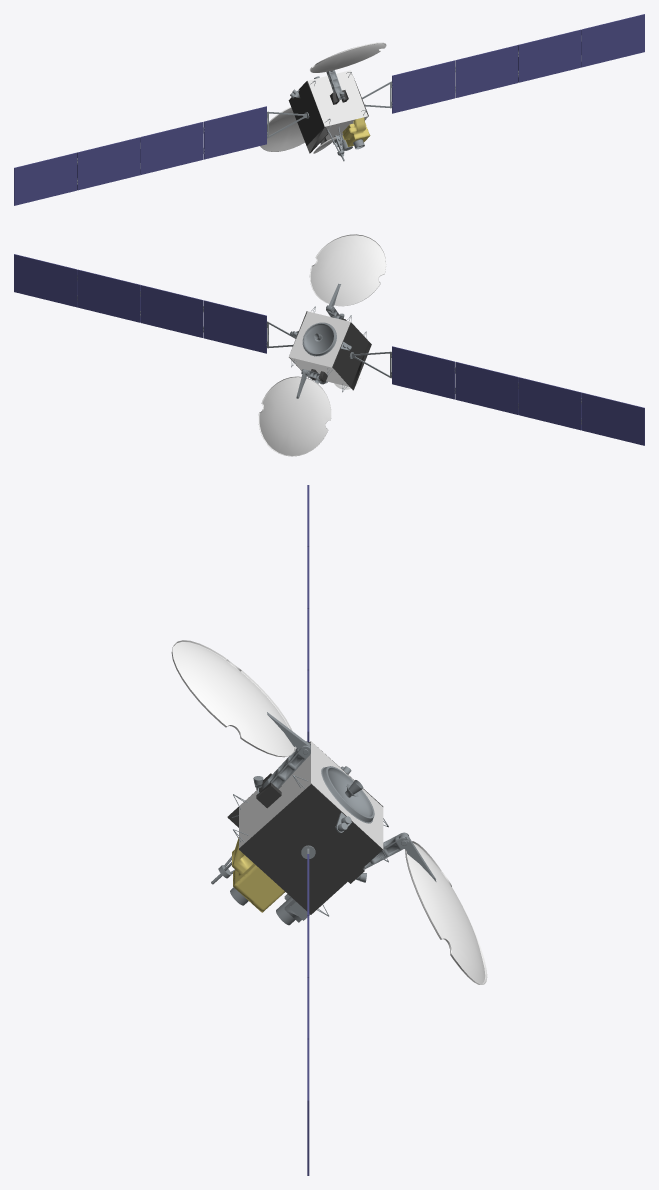
The model's file is KJG.gltf.
The picture shows the model from 3 angles, top to bottom: view 1: azimuth 30°, elevation 25°; view 2: azimuth 150°, elevation 25°; view 3: azimuth 270°, elevation 25°; orthographic projection. The views are drawn at different scales.
Parts seen in each view (by area): view 1: AM84_026_01, AM84_026_04, AM84_026_02, AM84_026_00, AM84_026_03; view 2: AM84_026_01, AM84_026_02, AM84_026_04, AM84_026_00; view 3: AM84_026_04, AM84_026_02, AM84_026_00, AM84_026_03, AM84_026_01.
Part boxes in pixels (x1,y1,x2,y2): AM84_026_01: (14,14,644,205); AM84_026_04: (288,70,368,153); AM84_026_02: (260,42,386,153); AM84_026_00: (77,35,581,184); AM84_026_03: (342,117,370,146); AM84_026_01: (14,254,644,445); AM84_026_02: (258,234,386,456); AM84_026_04: (289,311,371,390); AM84_026_00: (77,275,581,424); AM84_026_04: (227,741,383,914); AM84_026_02: (171,640,487,984); AM84_026_00: (211,712,436,925); AM84_026_03: (232,837,284,912); AM84_026_01: (307,485,309,1175).
Bounding box in the file's own units: 1996 × 493 × 433.
